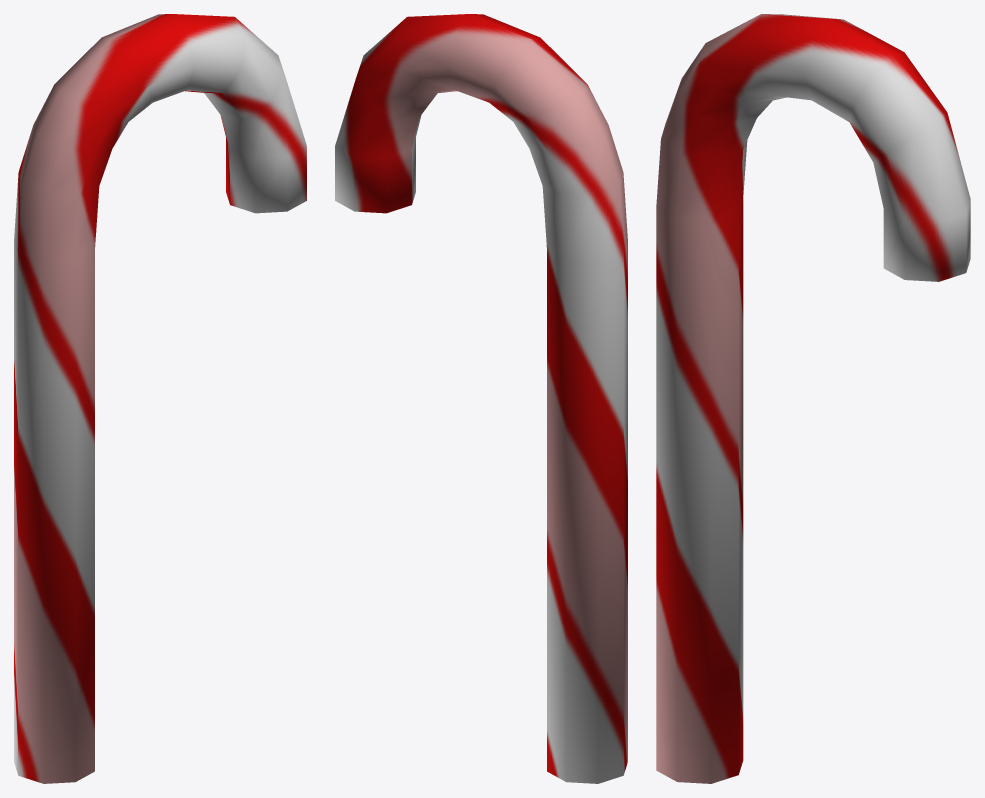
Rendered from candy_03.fbx.
3 views of the same model, side by side, from view 1: azimuth 30°, elevation 25°; view 2: azimuth 150°, elevation 25°; view 3: azimuth 330°, elevation 25° (orthographic). The views are drawn at different scales.
Parts seen in each view (by area): view 1: candy_03; view 2: candy_03; view 3: candy_03.
Part boxes in pixels (bbox=[...]): candy_03: bbox=[14, 14, 306, 783]; candy_03: bbox=[335, 14, 627, 783]; candy_03: bbox=[656, 14, 970, 783].
Size of the model in its own units: 0.6119 by 1.49 by 0.1562.
